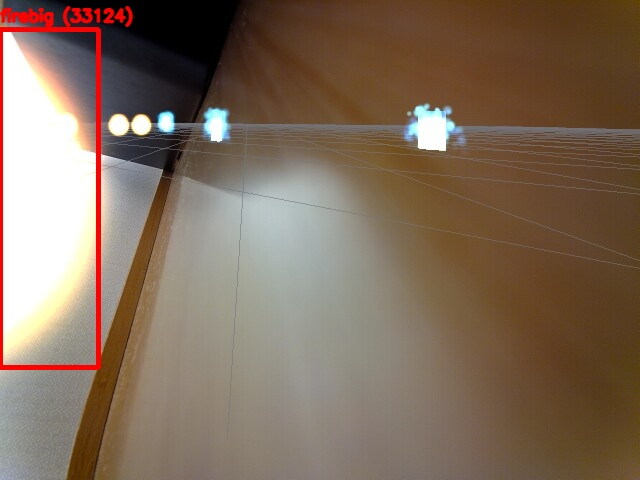firebig: (0, 29, 98, 367)
